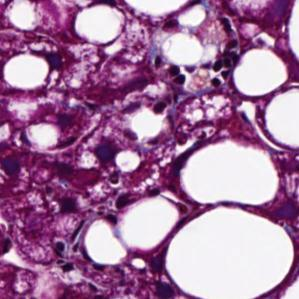inflammation: (155, 48, 234, 90)
